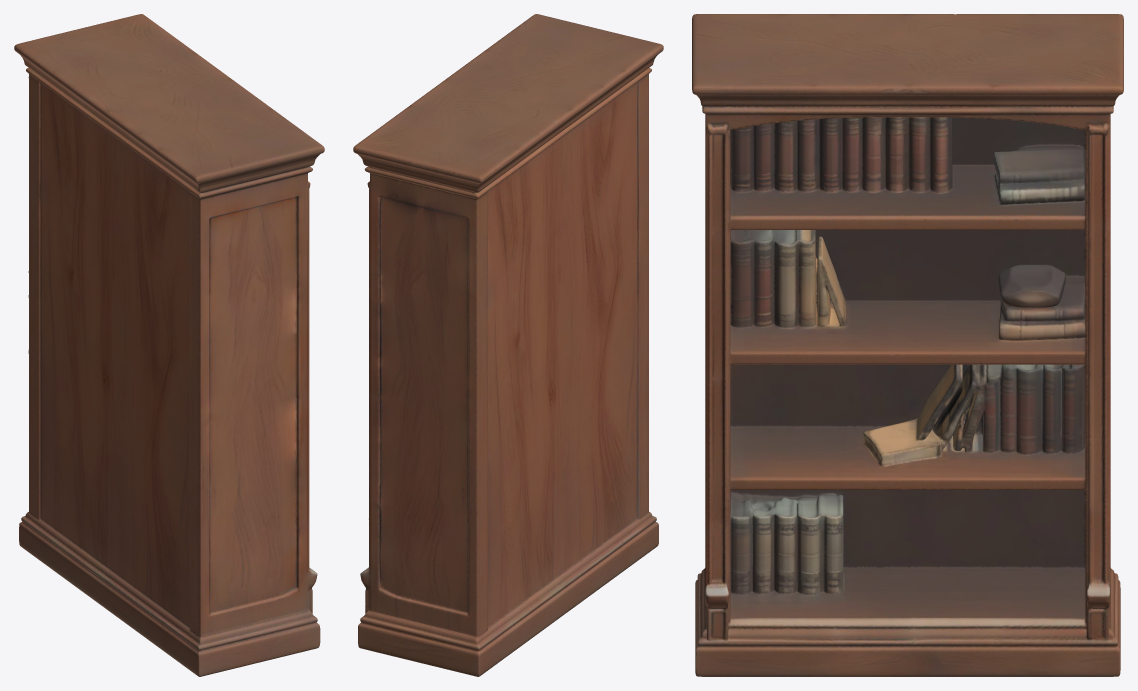
Rendered from detailed_realistic_model_antiquebookshelf_05.glb.
3 renders of one model, left to right at view 1: azimuth 30°, elevation 25°; view 2: azimuth 150°, elevation 25°; view 3: azimuth 270°, elevation 25°, orthographic. The views are drawn at different scales.
Parts seen in each view (by area): view 1: tripo_node_c9256e34-e78f-4766-bec9-31791bdd2806; view 2: tripo_node_c9256e34-e78f-4766-bec9-31791bdd2806; view 3: tripo_node_c9256e34-e78f-4766-bec9-31791bdd2806.
Part boxes in pixels (x1=…): tripo_node_c9256e34-e78f-4766-bec9-31791bdd2806: x1=14, y1=14, x2=324, y2=676; tripo_node_c9256e34-e78f-4766-bec9-31791bdd2806: x1=353, y1=14, x2=663, y2=676; tripo_node_c9256e34-e78f-4766-bec9-31791bdd2806: x1=692, y1=14, x2=1123, y2=676.
Size of the model in its own units: 0.2699 by 1 by 0.659.
1 material, 1 textured.
